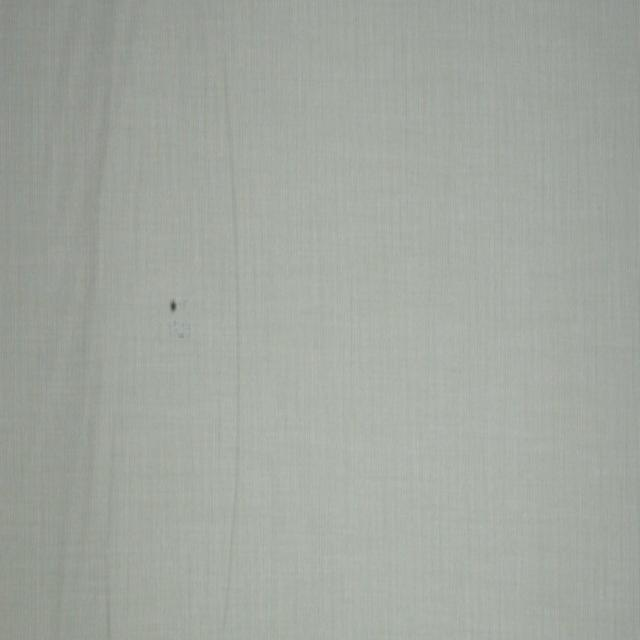dirty: (169, 299, 178, 312)
